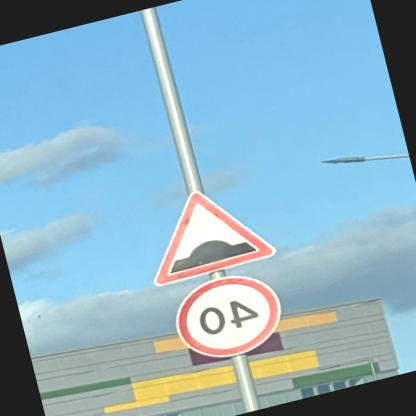speedlimit: (168, 264, 291, 366)
